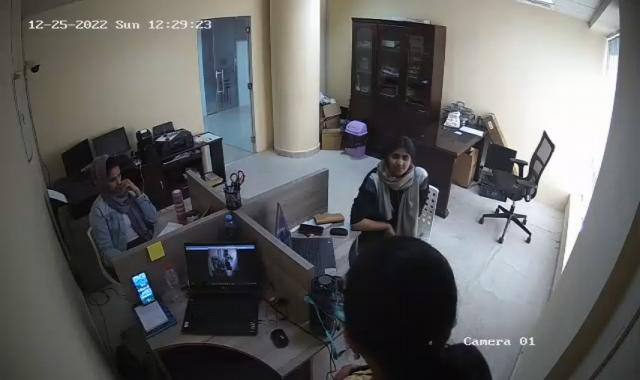no_hairnet: (349, 234, 466, 380), (388, 138, 411, 178), (96, 157, 123, 187)
